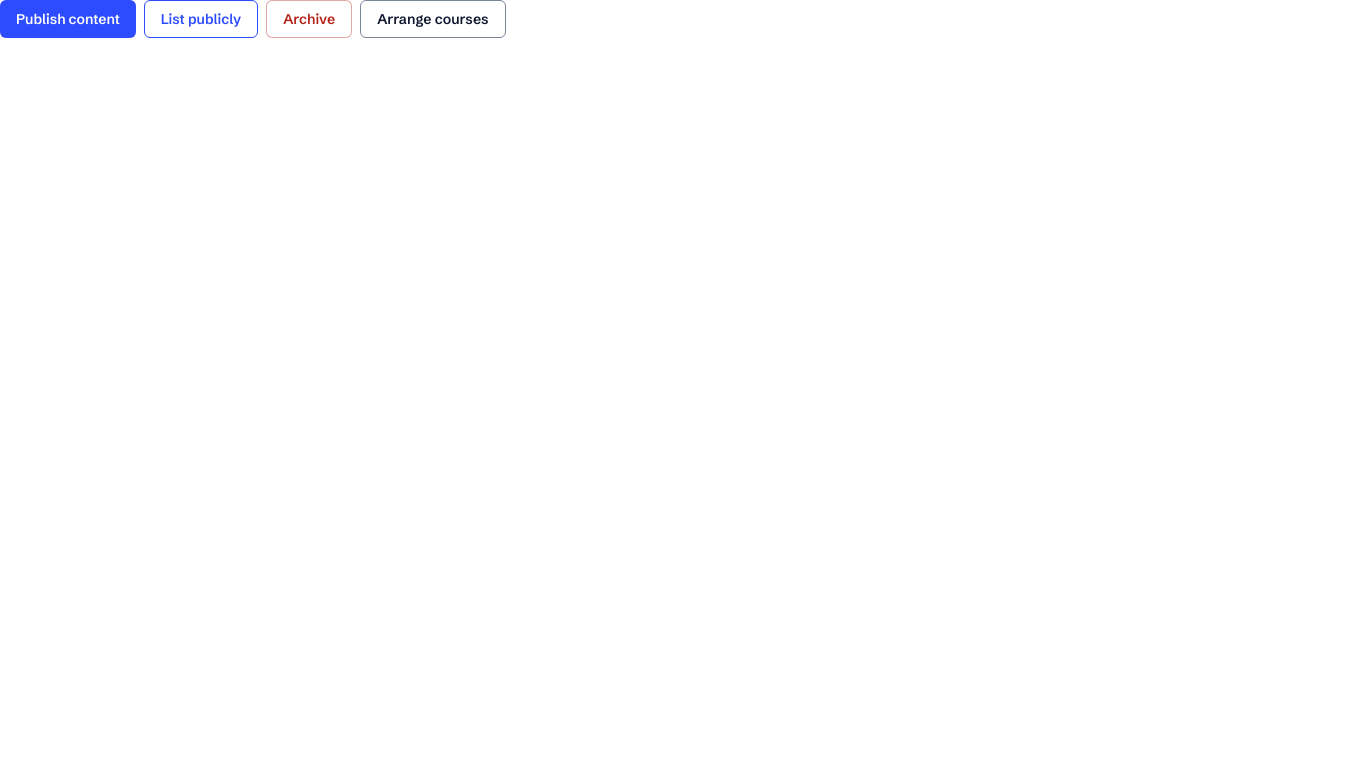
Test case: ProgrammeDetailClient — publish transport failure › keeps the dialog open with a generic error, never claims success, and a retry publishes
Click the button "Publish content" at (68, 19), box [0,0,136,38]
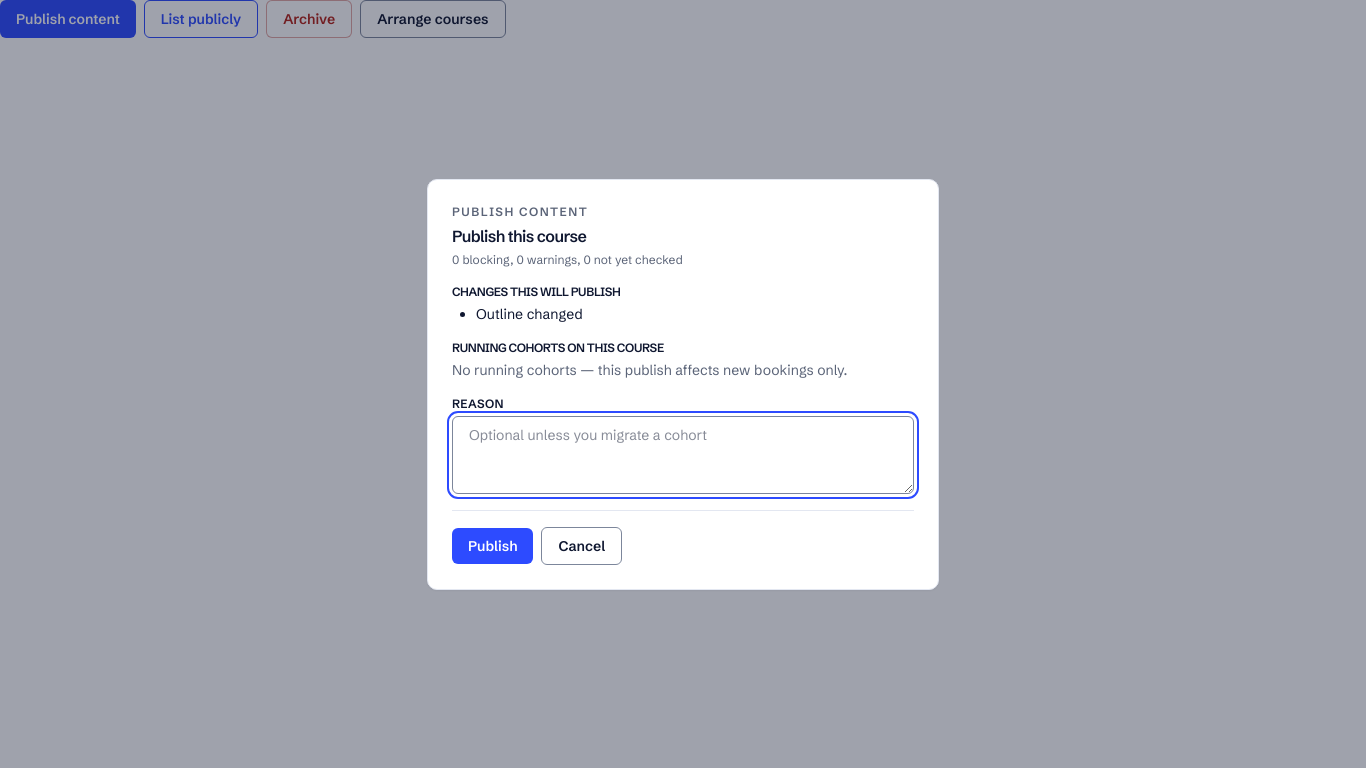
Click the button "Publish" at (493, 546), box [452,528,533,564]
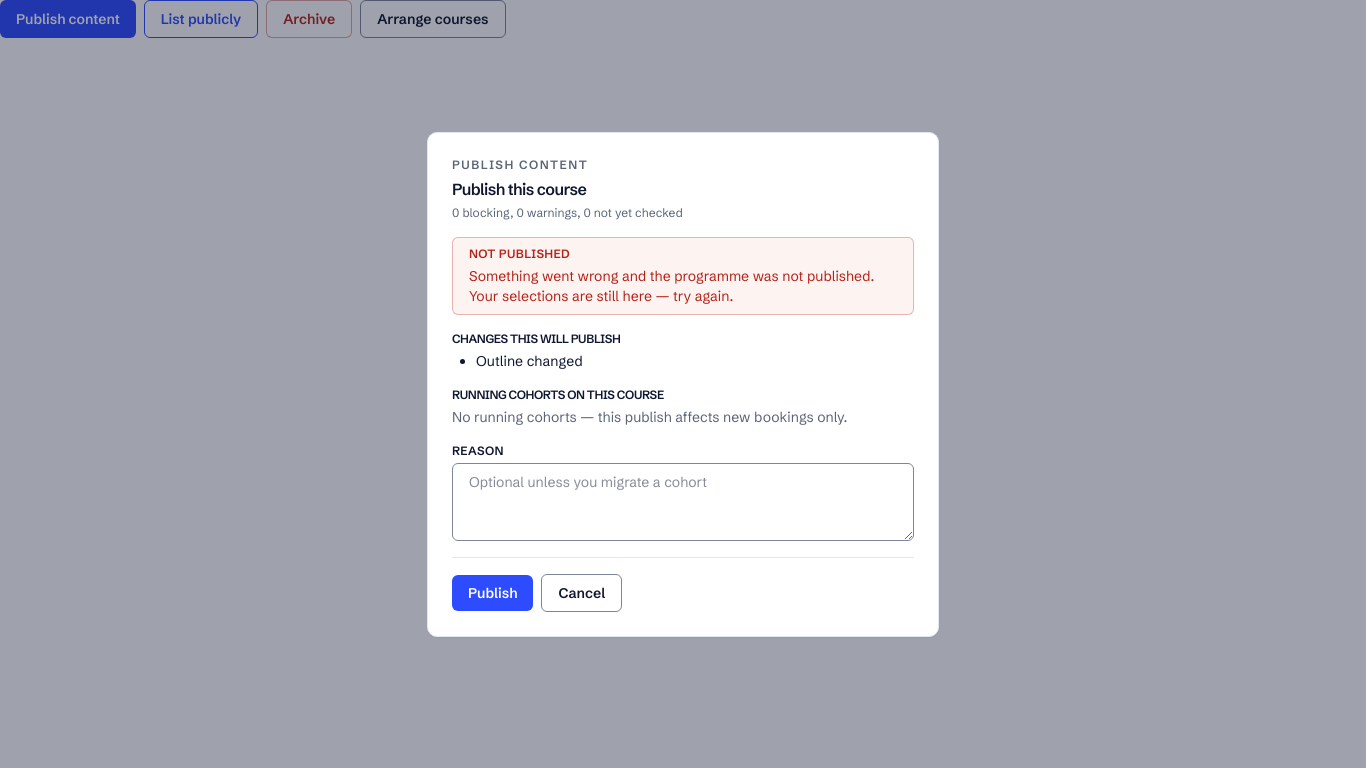
Expected: the text "Programme published" is not shown
Now the dialog is shown, box [427,132,939,636]
Click the button "Publish" at (493, 592), box [452,574,533,610]
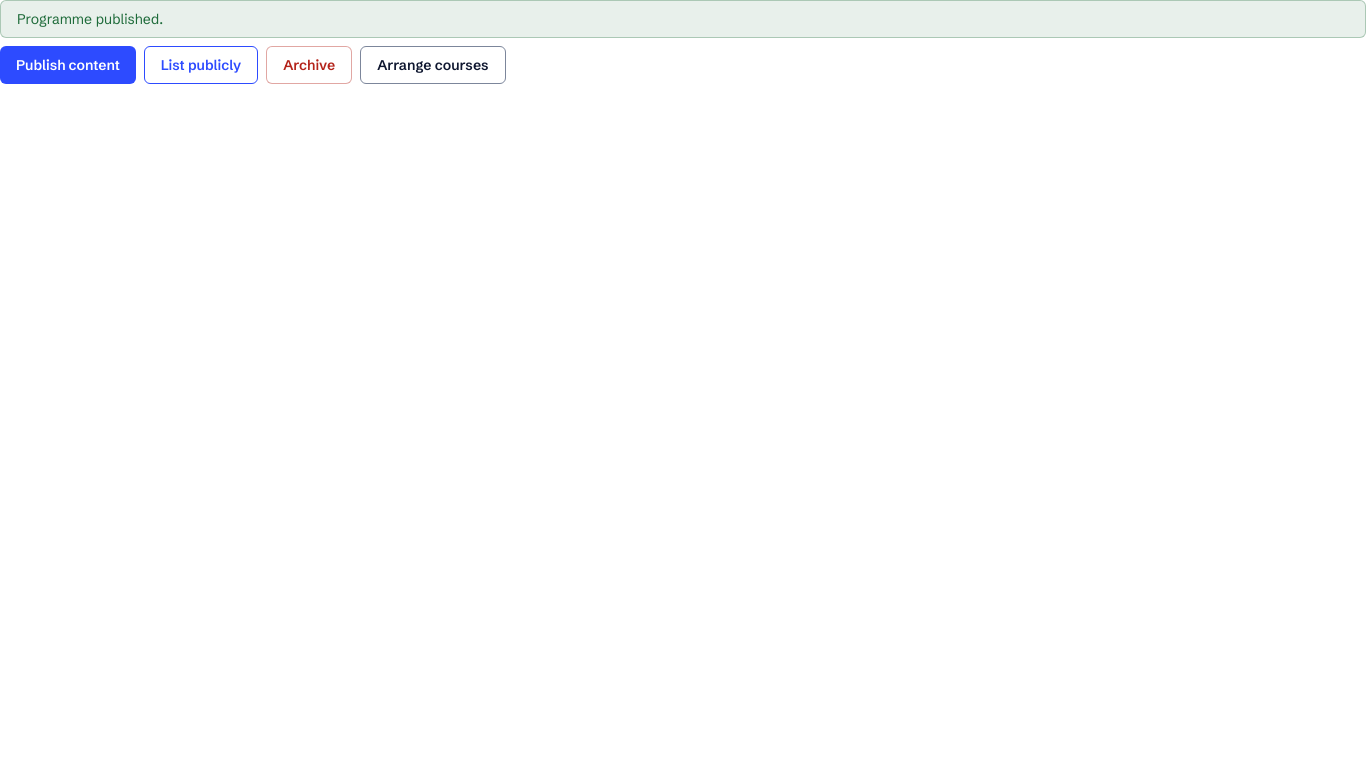
Now the text "Programme published." is shown, box [0,0,1365,38]
Now the dialog is gone
